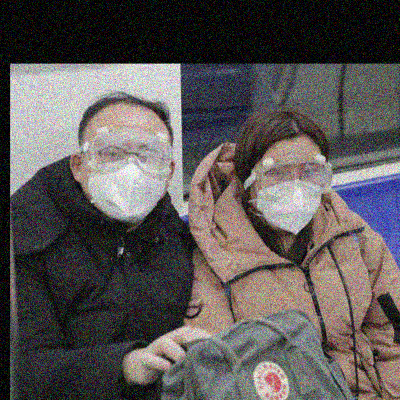with_mask: (85, 138, 168, 224), (255, 158, 325, 234)
